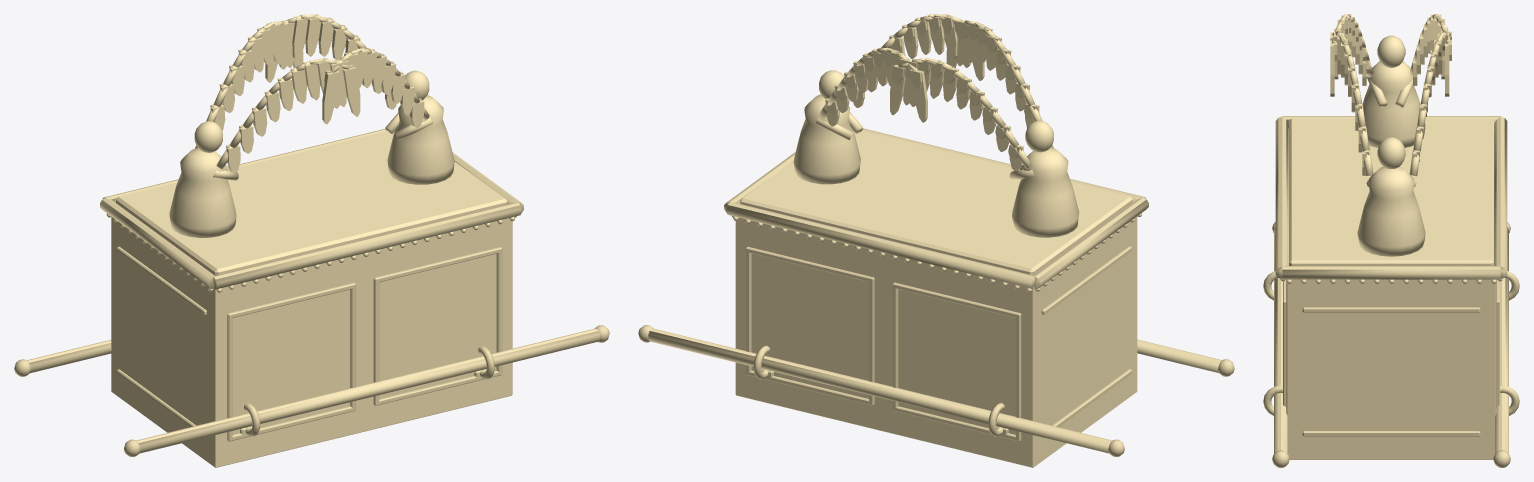
Rendered from ark.glb.
3 views of the same model, side by side, from view 1: azimuth 30°, elevation 25°; view 2: azimuth 150°, elevation 25°; view 3: azimuth 270°, elevation 25° (orthographic).
Parts seen in each view (by area): view 1: overlay_001_overlay, mercy-seat_001_kapporet, cherub-a_001_cherub, cherub-b_001_cherub, crown_001_crown, staves_002_stave, staves_001_stave; view 2: overlay_001_overlay, mercy-seat_001_kapporet, cherub-a_001_cherub, cherub-b_001_cherub, crown_001_crown, staves_001_stave, staves_002_stave; view 3: overlay_001_overlay, mercy-seat_001_kapporet, cherub-b_001_cherub, crown_001_crown, cherub-a_001_cherub, staves_001_stave, staves_002_stave, rings_003_ring, rings_004_ring.
Part boxes in pixels (left/top/right/bottom): overlay_001_overlay: left=111, top=217, right=512, bottom=467; mercy-seat_001_kapporet: left=116, top=131, right=507, bottom=275; cherub-a_001_cherub: left=169, top=20, right=360, bottom=237; cherub-b_001_cherub: left=265, top=14, right=454, bottom=184; crown_001_crown: left=100, top=129, right=523, bottom=292; staves_002_stave: left=124, top=325, right=609, bottom=456; staves_001_stave: left=14, top=339, right=111, bottom=376; overlay_001_overlay: left=735, top=216, right=1137, bottom=467; mercy-seat_001_kapporet: left=740, top=131, right=1132, bottom=275; cherub-a_001_cherub: left=890, top=20, right=1079, bottom=237; cherub-b_001_cherub: left=793, top=14, right=984, bottom=184; crown_001_crown: left=724, top=128, right=1148, bottom=292; staves_001_stave: left=638, top=325, right=1124, bottom=456; staves_002_stave: left=1137, top=339, right=1234, bottom=376; overlay_001_overlay: left=1283, top=129, right=1499, bottom=459; mercy-seat_001_kapporet: left=1289, top=118, right=1493, bottom=265; cherub-b_001_cherub: left=1330, top=30, right=1451, bottom=256; crown_001_crown: left=1275, top=116, right=1507, bottom=283; cherub-a_001_cherub: left=1330, top=14, right=1451, bottom=147; staves_001_stave: left=1493, top=222, right=1510, bottom=467; staves_002_stave: left=1272, top=222, right=1289, bottom=467; rings_003_ring: left=1500, top=385, right=1519, bottom=415; rings_004_ring: left=1263, top=385, right=1282, bottom=415.
Bounding box in the file's own units: 4.12 × 2.91 × 1.88.
